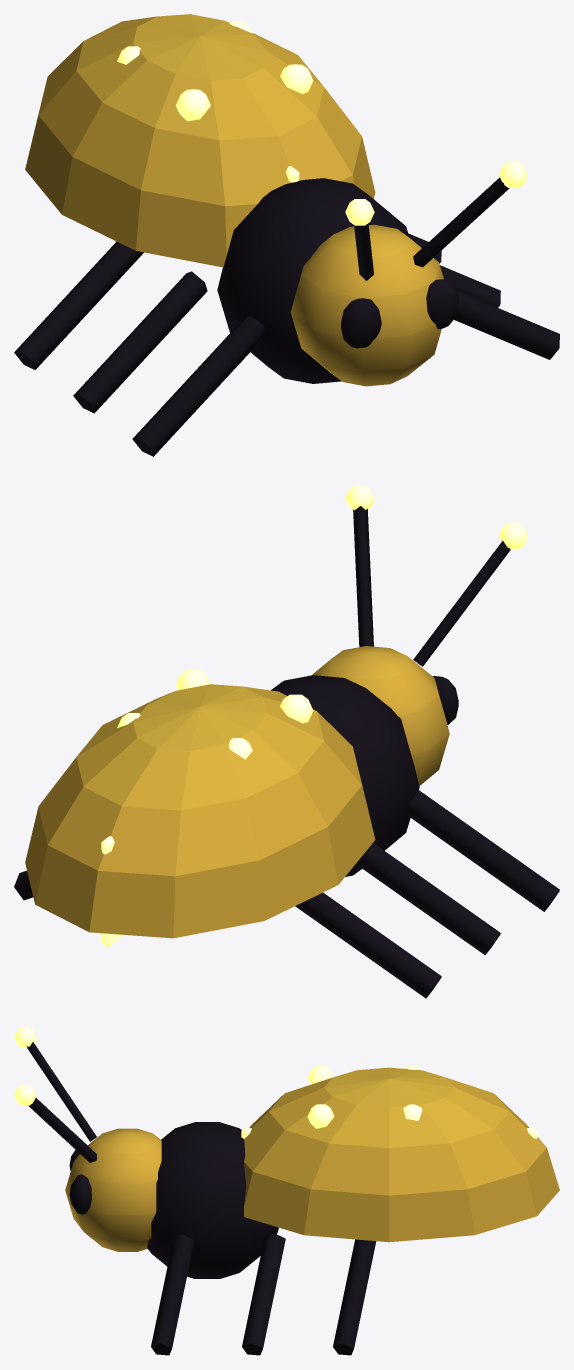
File: monster_glow_beetle.glb
3 renders of one model, top to bottom at view 1: azimuth 30°, elevation 25°; view 2: azimuth 150°, elevation 25°; view 3: azimuth 270°, elevation 25°, orthographic. The views are drawn at different scales.
Visible parts, largest first — view 1: body_t0_palette, body_t0_glow_gold; view 2: body_t0_palette, body_t0_glow_gold; view 3: body_t0_palette, body_t0_glow_gold.
Boxes of the visible parts, x1,y1,x2,y2 form: body_t0_palette: (14,14,559,456); body_t0_glow_gold: (117,21,528,225); body_t0_palette: (14,506,559,998); body_t0_glow_gold: (101,485,528,946); body_t0_palette: (27,1042,559,1355); body_t0_glow_gold: (14,1027,537,1138).
Size of the model in its own units: 0.3299 by 0.217 by 0.48.
